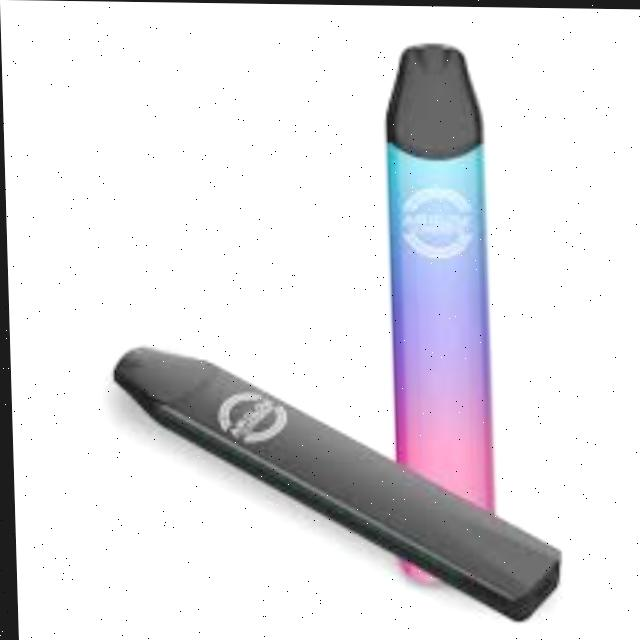vape: (105, 343, 563, 622), (381, 40, 498, 590)
